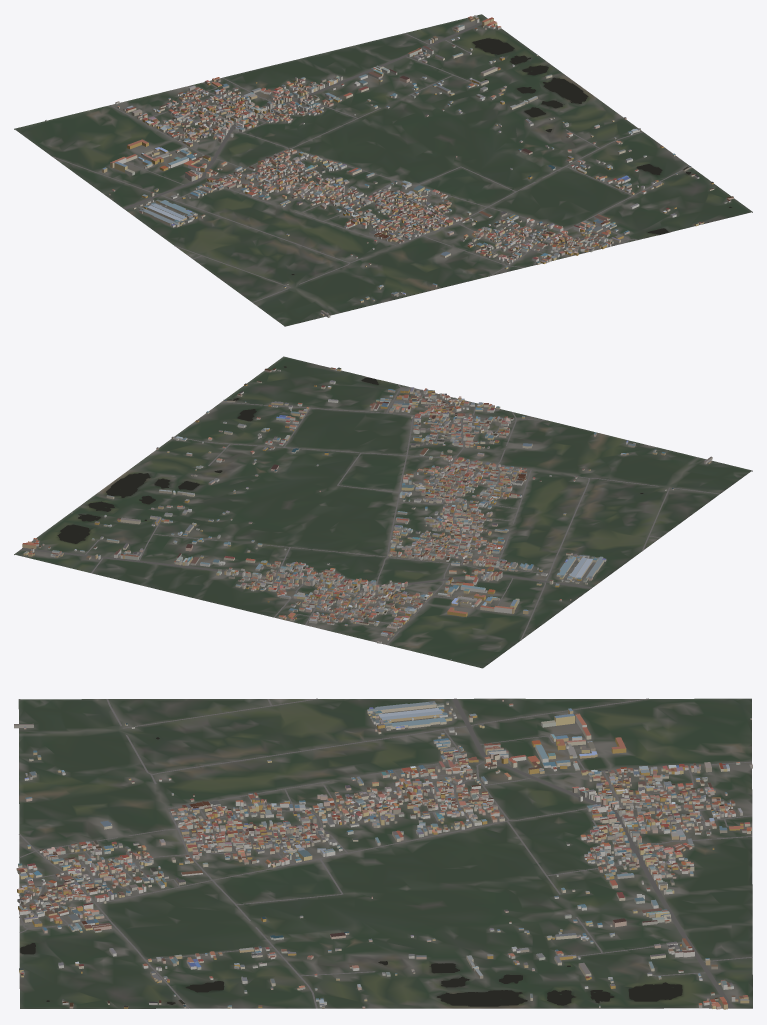
3 renders of one model, top to bottom at view 1: azimuth 30°, elevation 25°; view 2: azimuth 150°, elevation 25°; view 3: azimuth 270°, elevation 25°, orthographic. The views are drawn at different scales.
Parts seen in each view (by area): view 1: ground, buildings, roads, water; view 2: ground, buildings, roads, water; view 3: ground, buildings, roads, water.
Boxes of the visible parts, left/top/right/bottom form: ground: left=14, top=14, right=752, bottom=326; buildings: left=45, top=15, right=733, bottom=317; roads: left=52, top=22, right=689, bottom=326; water: left=291, top=38, right=731, bottom=274; ground: left=14, top=356, right=752, bottom=668; buildings: left=22, top=367, right=712, bottom=660; roads: left=21, top=384, right=752, bottom=644; water: left=57, top=366, right=643, bottom=543; ground: left=18, top=698, right=752, bottom=1008; buildings: left=14, top=699, right=752, bottom=1009; roads: left=18, top=698, right=752, bottom=1008; water: left=20, top=737, right=682, bottom=1006.
Bounding box in the file's own units: 1408 × 20.59 × 1413.
